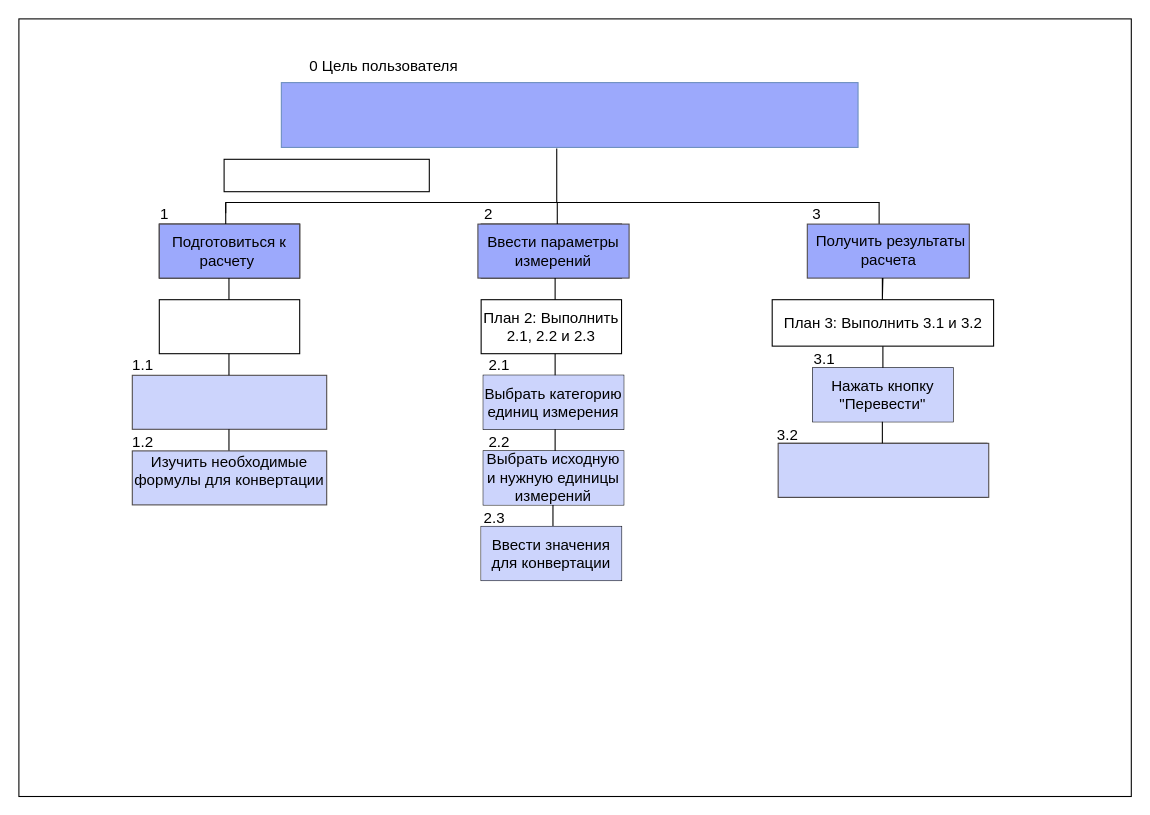
Image size: 1150x815. Some labels were removed from this diagram. The shapes that lost their labels are listed below. From the top down, each one's centre as x and y in pixels, then its label:
At point (569, 114): "Расчет единиц измерения и системных мер".
At point (326, 175): "План 0: Делать по порядку".
At point (229, 326): "План 1: Выполнить 1.1 и 1.2".
At point (229, 401): "Определить категорию".
At point (883, 469): "Получить результаты расчета единиц измерения и системных мер".
